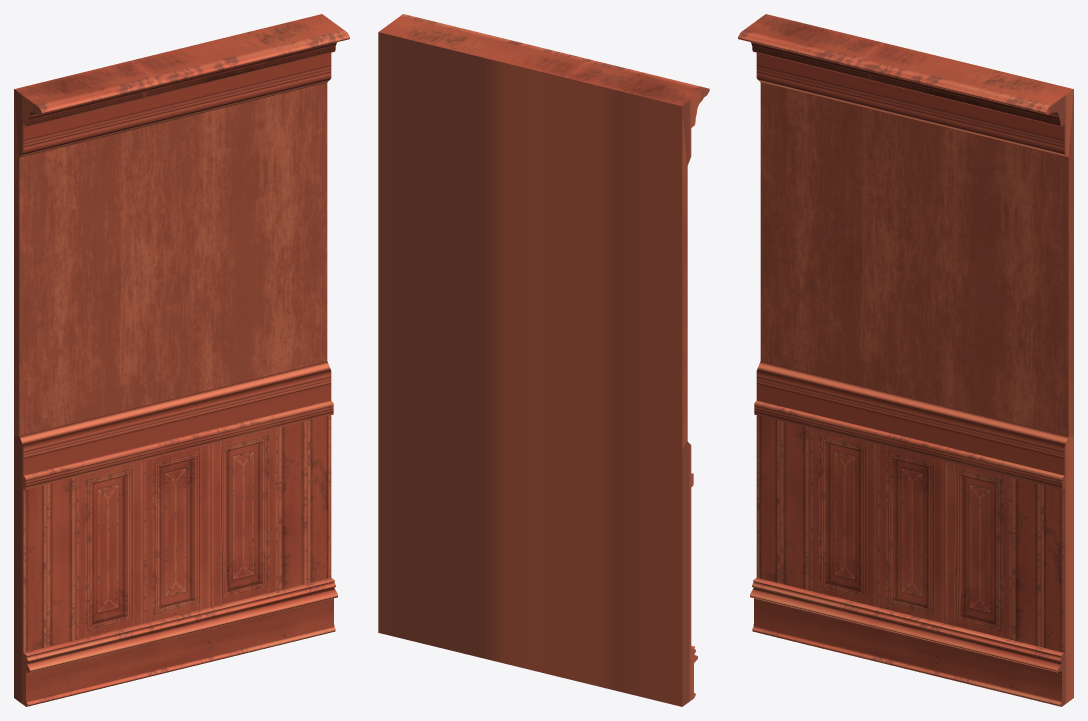
File: MSH_Wall_03.FBX
3 views of the same model, side by side, from view 1: azimuth 30°, elevation 25°; view 2: azimuth 150°, elevation 25°; view 3: azimuth 330°, elevation 25° (orthographic).
Visible parts, largest first — view 1: MSH_Wall_03; view 2: MSH_Wall_03; view 3: MSH_Wall_03.
Part boxes in pixels (bbox=[...]): MSH_Wall_03: bbox=[14, 14, 349, 706]; MSH_Wall_03: bbox=[378, 14, 709, 706]; MSH_Wall_03: bbox=[738, 14, 1073, 706].
Size of what is drawn, in the model's own units: 180 by 28 by 340.
